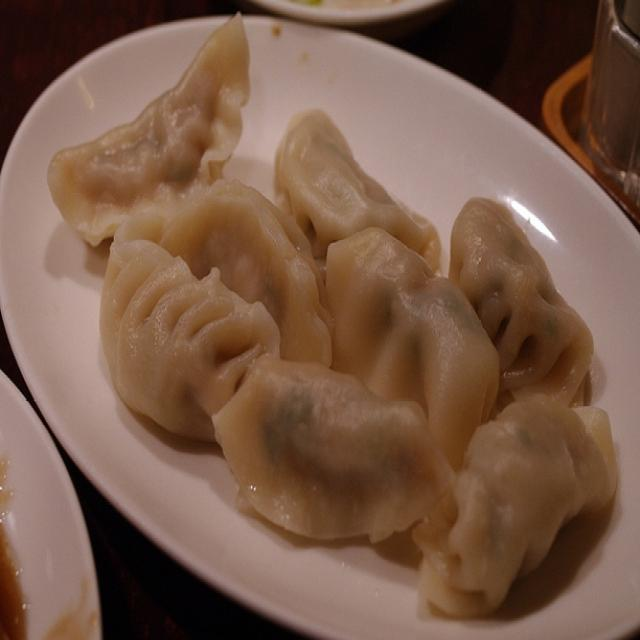带馅早点: (29, 20, 612, 629)
